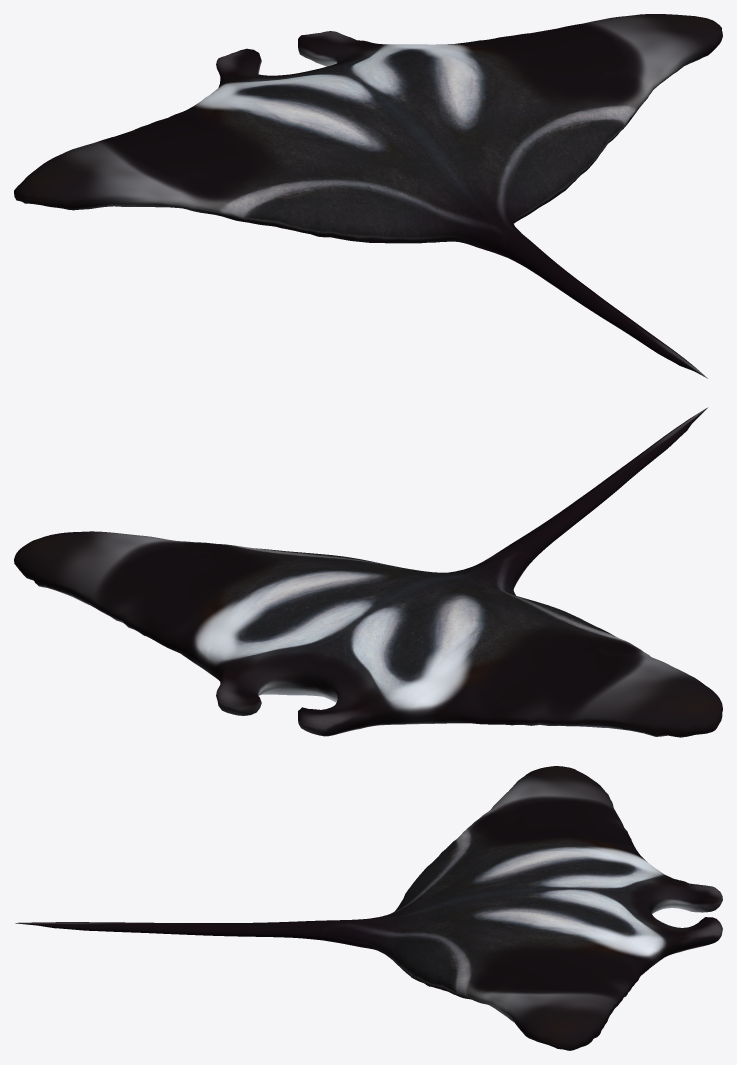
File: manta_ray.obj
3 renders of one model, top to bottom at view 1: azimuth 30°, elevation 25°; view 2: azimuth 150°, elevation 25°; view 3: azimuth 270°, elevation 25°, orthographic. The views are drawn at different scales.
Parts seen in each view (by area): view 1: manta_ray; view 2: manta_ray; view 3: manta_ray.
Boxes of the visible parts, box(x1,y1,x2,y2) form: manta_ray: box(14, 14, 722, 378); manta_ray: box(14, 407, 722, 737); manta_ray: box(15, 766, 722, 1050).
Bounding box in the file's own units: 13.98 × 1.41 × 15.16.
1 material, 1 textured.
